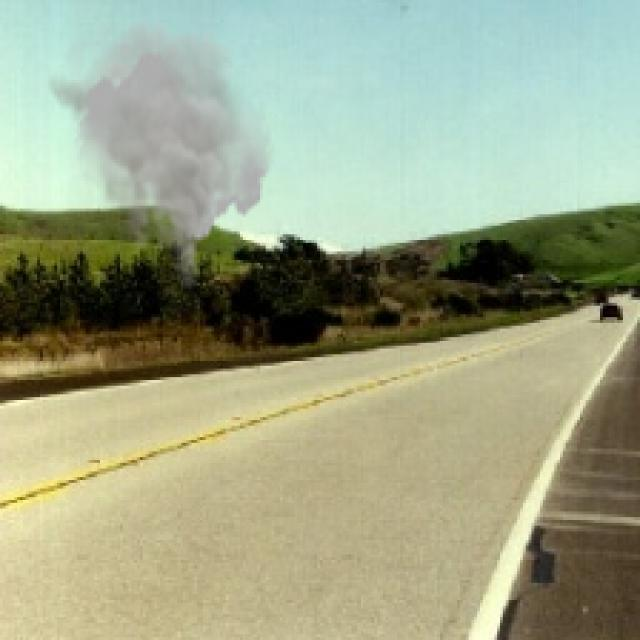Smoke: (46, 14, 274, 294)
